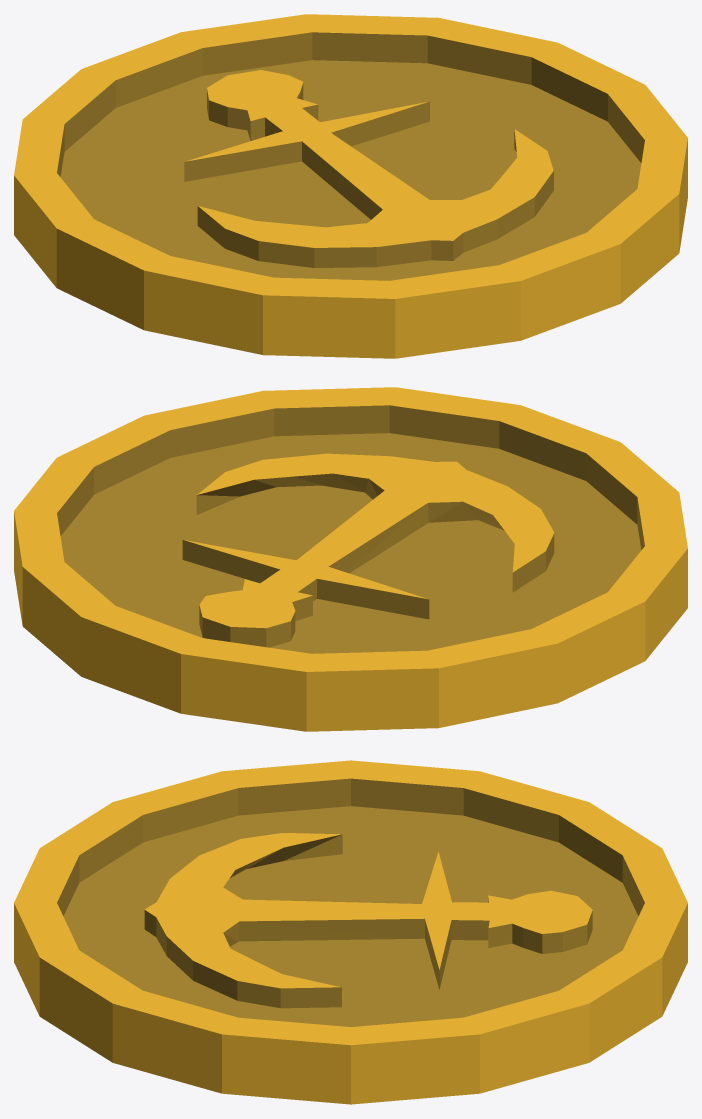
File: Coin_Anchor.fbx
3 renders of one model, top to bottom at view 1: azimuth 30°, elevation 25°; view 2: azimuth 150°, elevation 25°; view 3: azimuth 270°, elevation 25°, orthographic.
Parts seen in each view (by area): view 1: Coin_Anchor; view 2: Coin_Anchor; view 3: Coin_Anchor.
Boxes of the visible parts, x1,y1,x2,y2 form: Coin_Anchor: (14, 14, 687, 358); Coin_Anchor: (14, 387, 687, 731); Coin_Anchor: (14, 760, 687, 1104).
Bounding box in the file's own units: 20 × 20 × 1.94.
